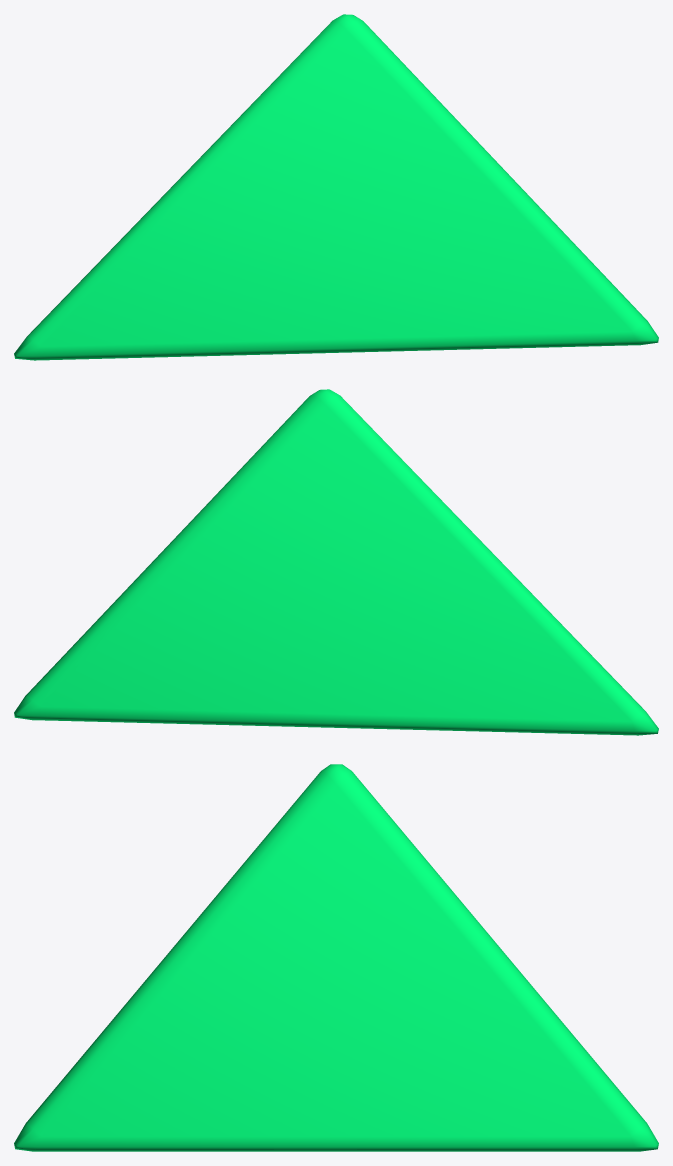
File: 4die.fbx
3 renders of one model, top to bottom at view 1: azimuth 30°, elevation 25°; view 2: azimuth 150°, elevation 25°; view 3: azimuth 270°, elevation 25°, orthographic. The views are drawn at different scales.
Parts seen in each view (by area): view 1: 4Die; view 2: 4Die; view 3: 4Die.
Boxes of the visible parts, box(x1,y1,x2,y2) form: 4Die: box(14, 14, 658, 360); 4Die: box(14, 389, 658, 735); 4Die: box(14, 764, 658, 1151).
Bounding box in the file's own units: 187 × 94.76 × 186.
